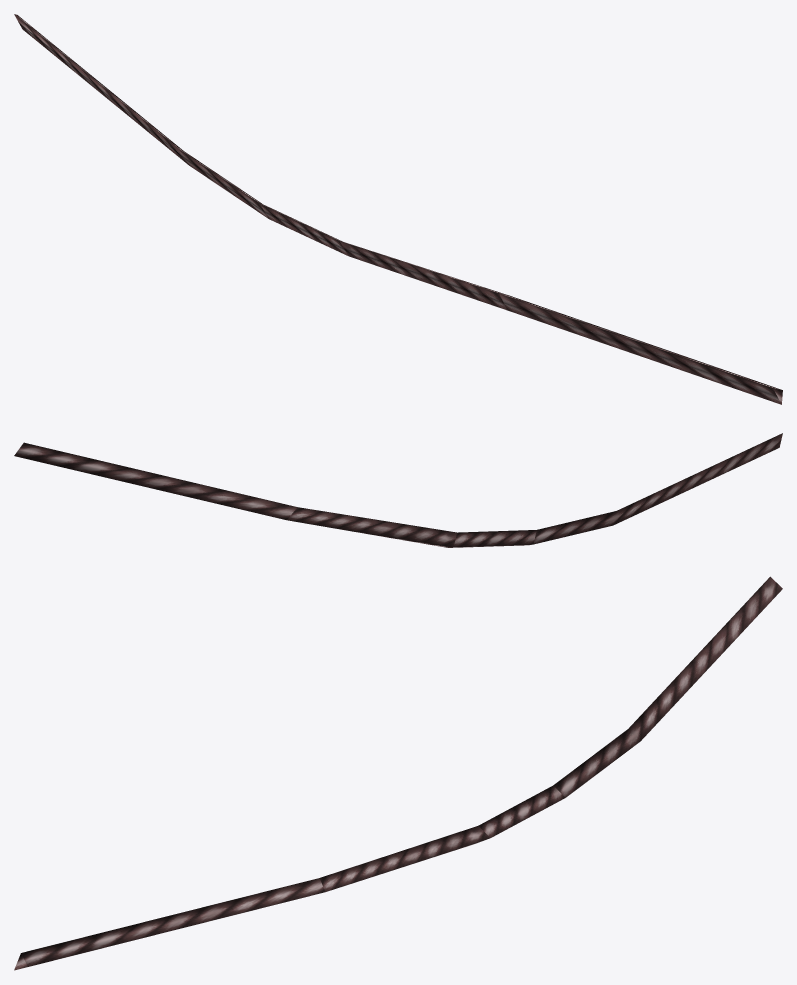
The model's file is Beidaying_shengzi.FBX.
The picture shows the model from 3 angles, top to bottom: view 1: azimuth 30°, elevation 25°; view 2: azimuth 210°, elevation 25°; view 3: azimuth 270°, elevation 25°; orthographic projection.
Visible parts, largest first — view 1: Beidaying_shengzi; view 2: Beidaying_shengzi; view 3: Beidaying_shengzi.
Boxes of the visible parts, <box> form: Beidaying_shengzi: <box>14,14,782,404</box>; Beidaying_shengzi: <box>14,433,782,547</box>; Beidaying_shengzi: <box>14,576,782,970</box>.
Bounding box in the file's own units: 147 × 249 × 73.5.
